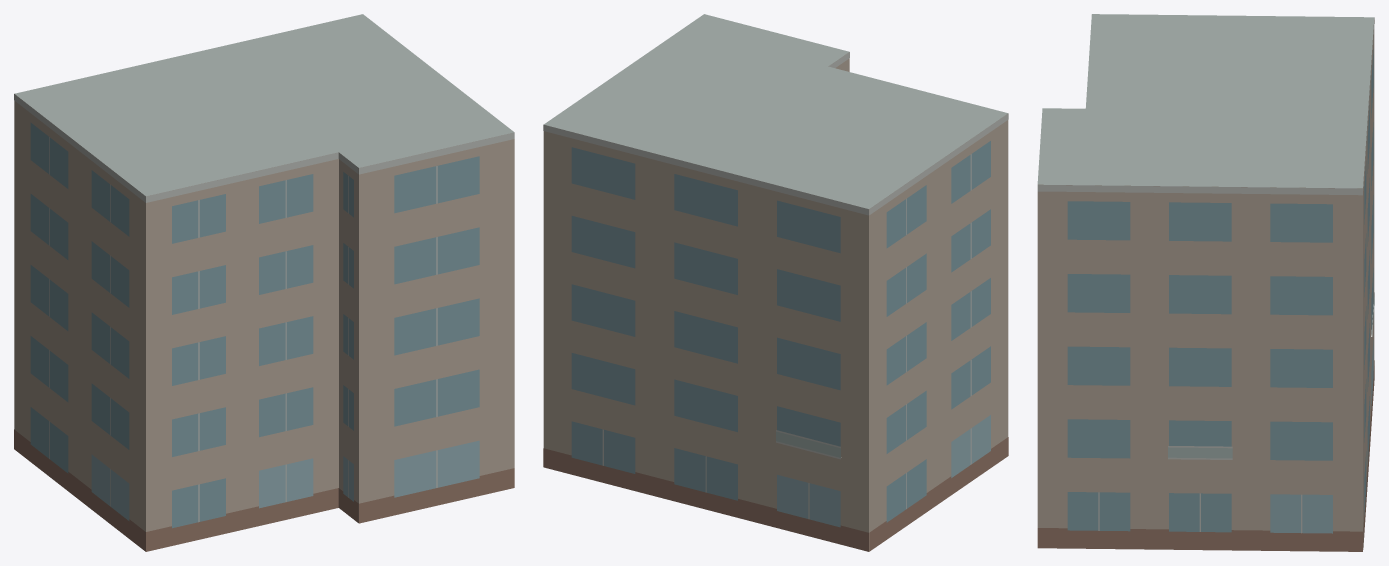
The model's file is survey-upis-33037537.glb.
The picture shows the model from 3 angles, left to right: view 1: azimuth 30°, elevation 25°; view 2: azimuth 150°, elevation 25°; view 3: azimuth 270°, elevation 25°; orthographic projection. The views are drawn at different scales.
Visible parts, largest first — view 1: survey-upis-33037537.tmp; view 2: survey-upis-33037537.tmp; view 3: survey-upis-33037537.tmp.
Part boxes in pixels (x1,y1,x2,y2): survey-upis-33037537.tmp: (14, 14, 514, 551); survey-upis-33037537.tmp: (543, 14, 1008, 551); survey-upis-33037537.tmp: (1037, 14, 1374, 551).
Size of the model in its own units: 13.49 by 13.1 by 11.02.
